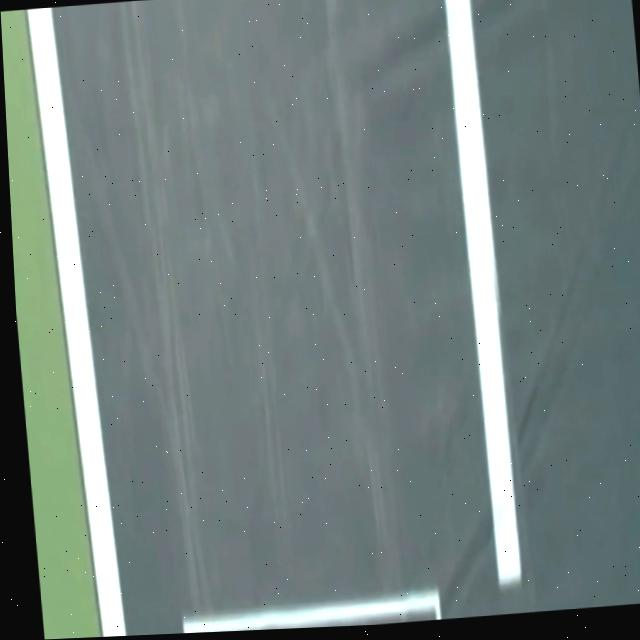center: (445, 0, 522, 587)
right: (28, 7, 126, 637)
